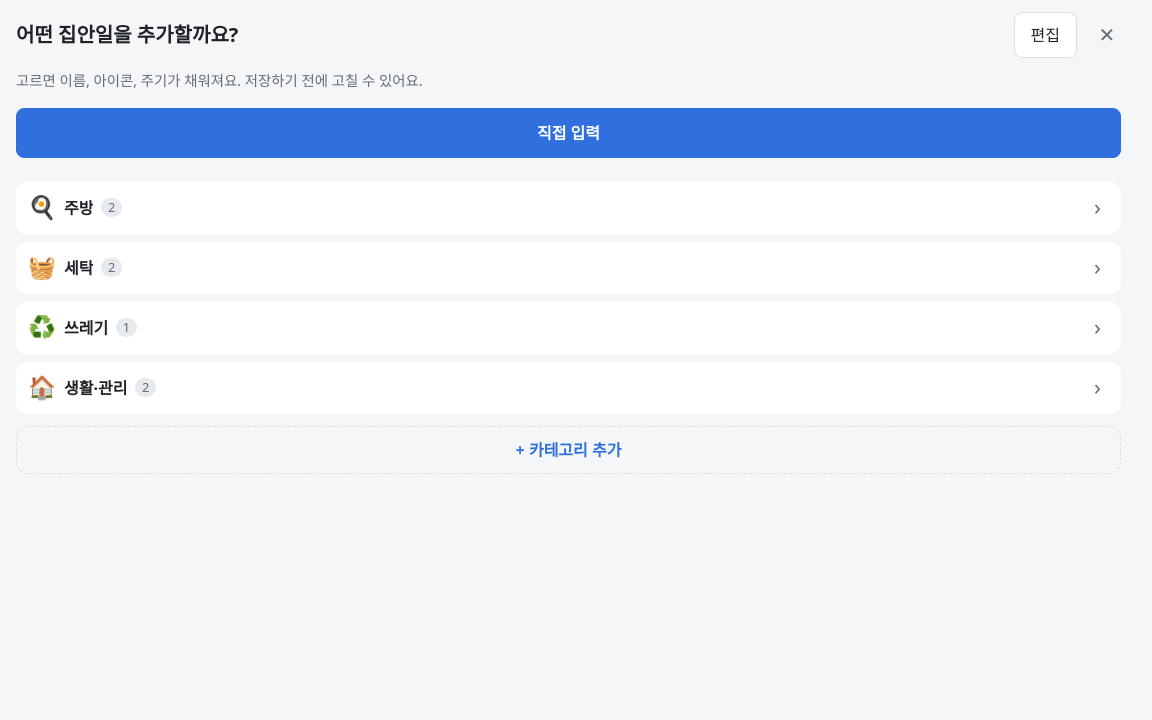
Test: 아코디언 › 저장소를 쓸 수 없으면 모두 접힌 채로 시작하고, 펼치기는 오류 없이 동작한다
The width and height of the screenshot is (1152, 720).
Click the button "🍳 주방 2 ›": (42, 207) [16,182,1113,234]
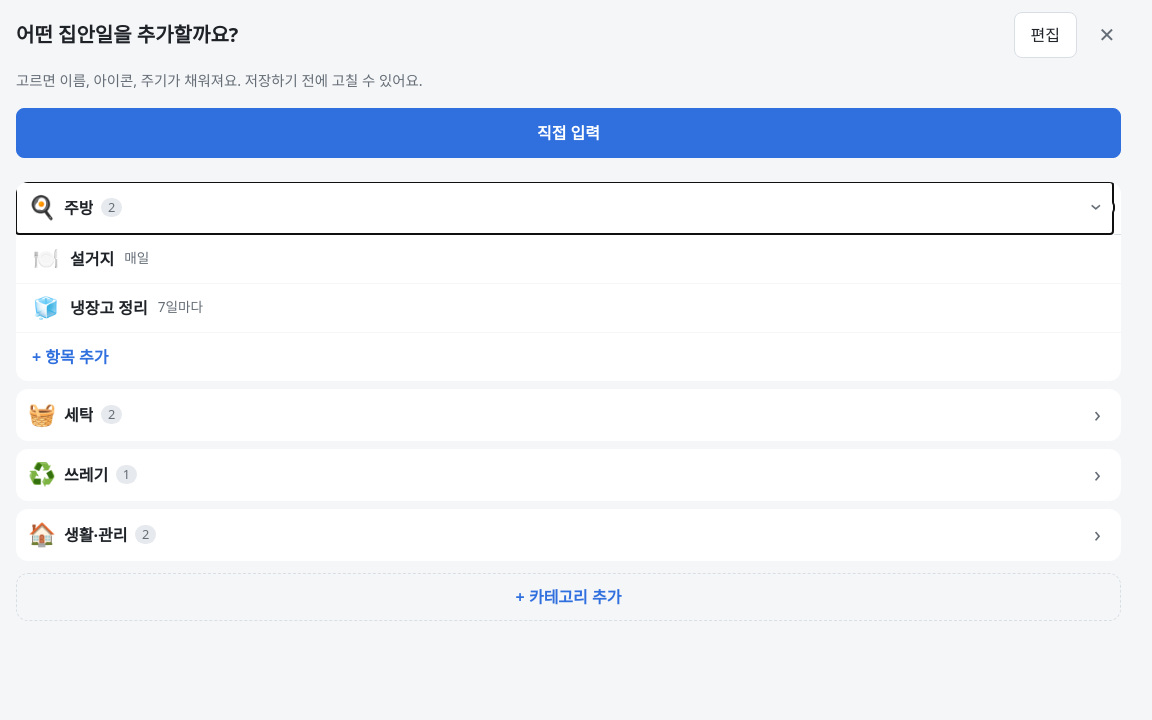
Check: the button "🍳 주방 2 ›" is expanded, box [16,182,1113,234]
